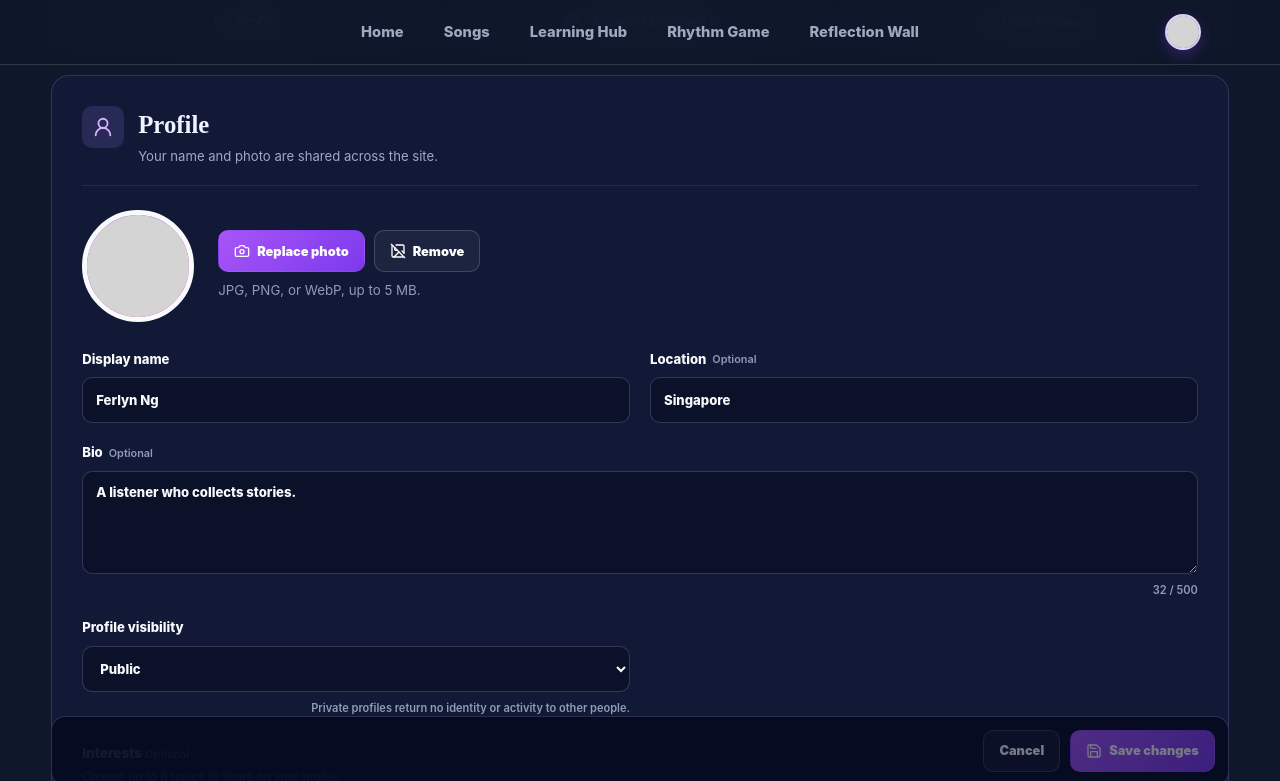
Test case: shared user profile system › saves shared profile, preference, and privacy changes through the owner API
(page scrolled)
Replace the text in the field labelled "Display name" with "Ferlyn Tan" at coordinates (356, 400), box [82,378,630,424]
(page scrolled)
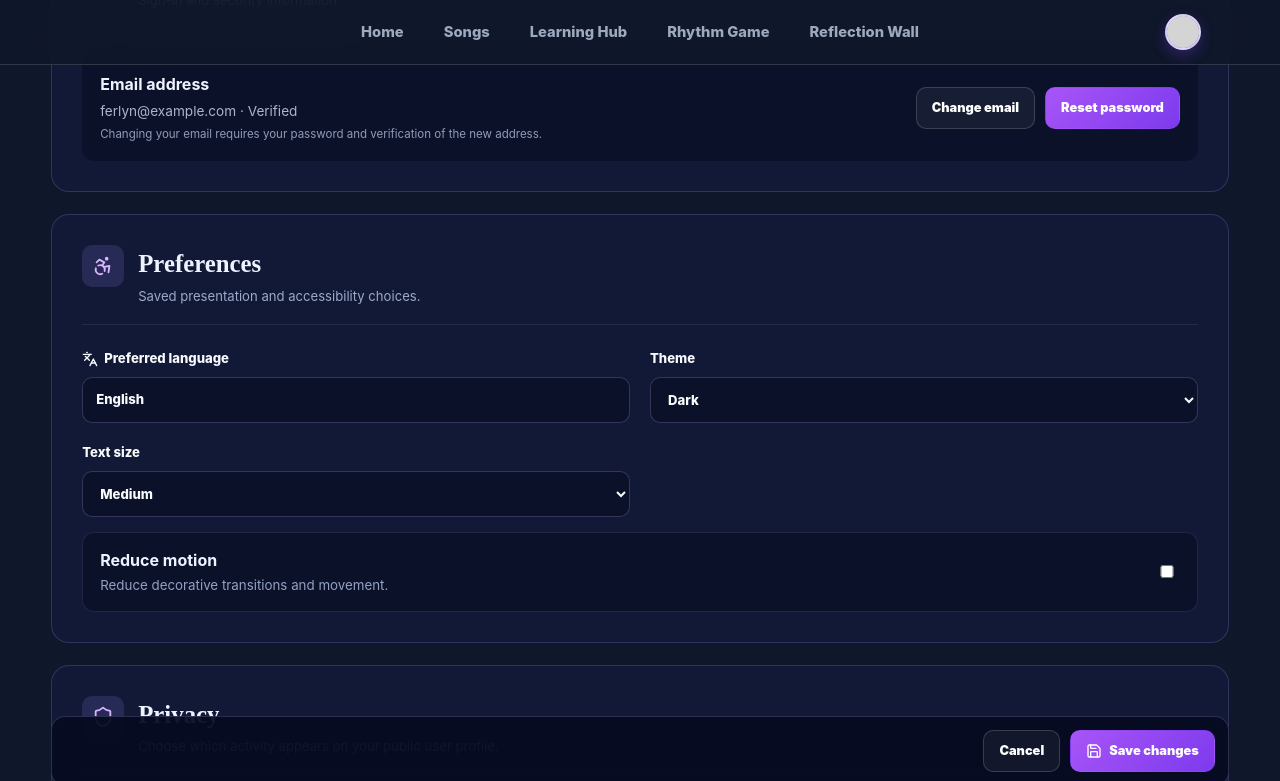
Select "Light" in the dropdown labelled "Theme" at coordinates (924, 400), box [650,377,1198,423]
(page scrolled)
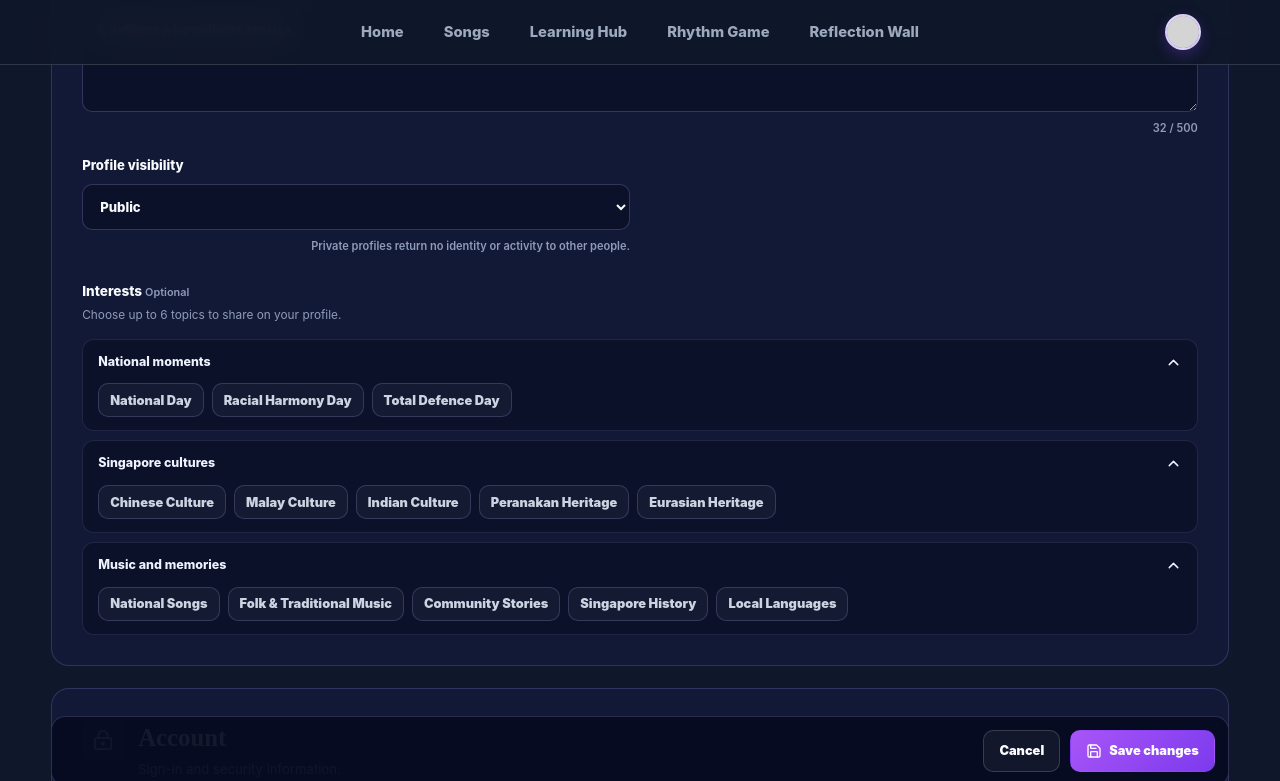
Click the button "National Day" at coordinates (151, 400), box [98,384,204,418]
(page scrolled)
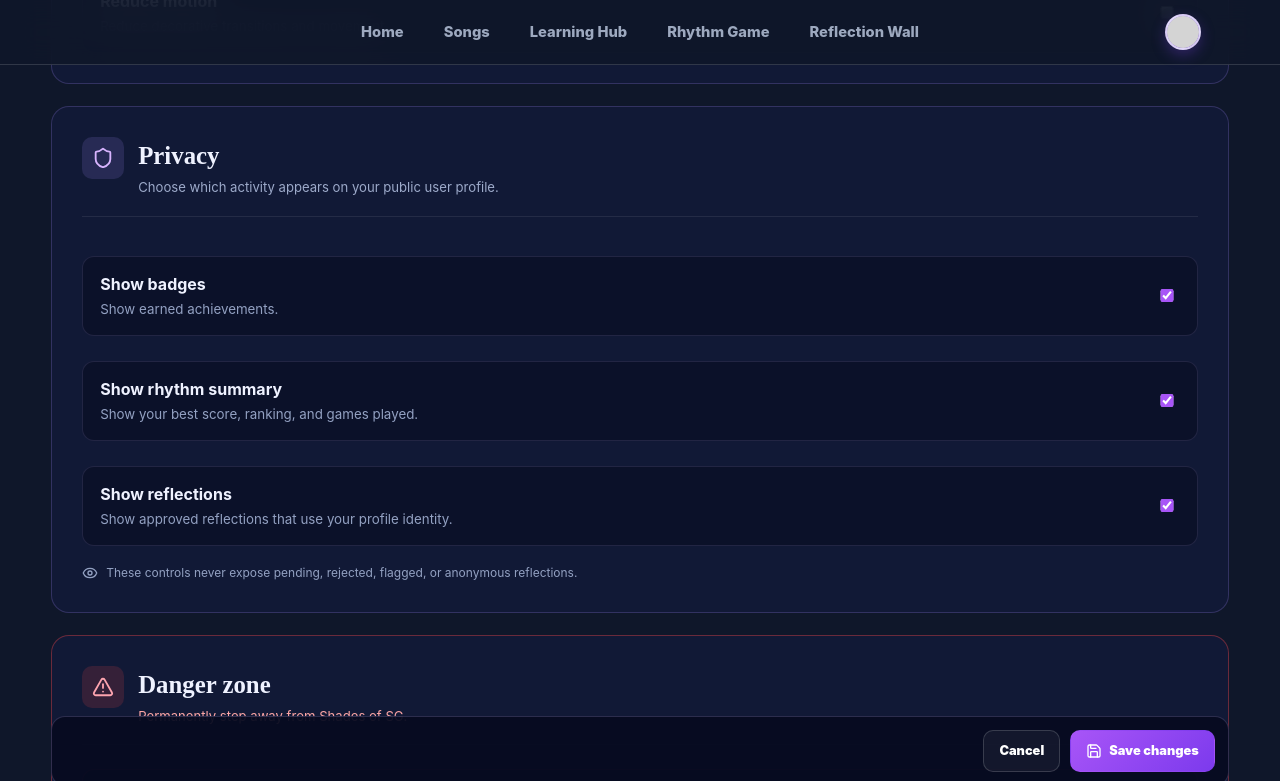
Click the checkbox labelled "Show rhythm summary" at coordinates (1167, 400), box [1157,394,1177,407]
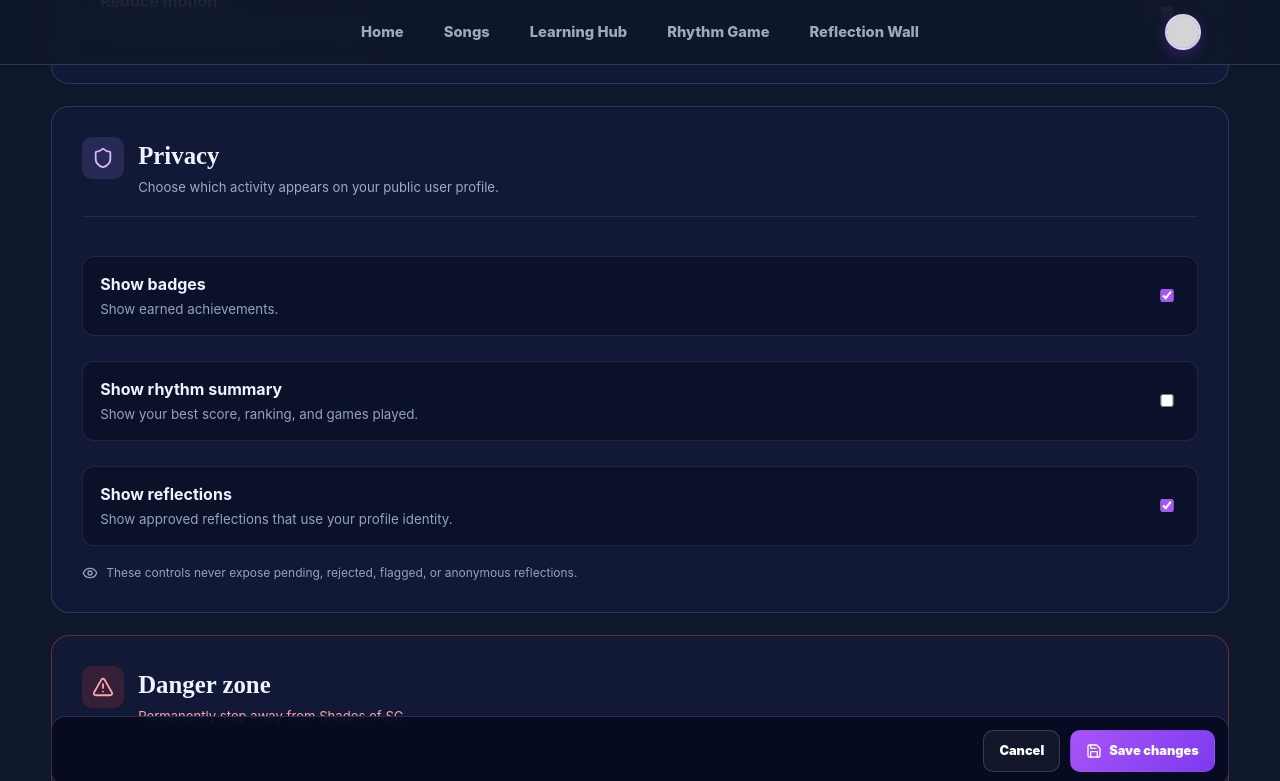
Check: the button "Save changes" is enabled
Click the button "Save changes" at coordinates (1142, 751), box [1070,730,1215,772]
(page scrolled)
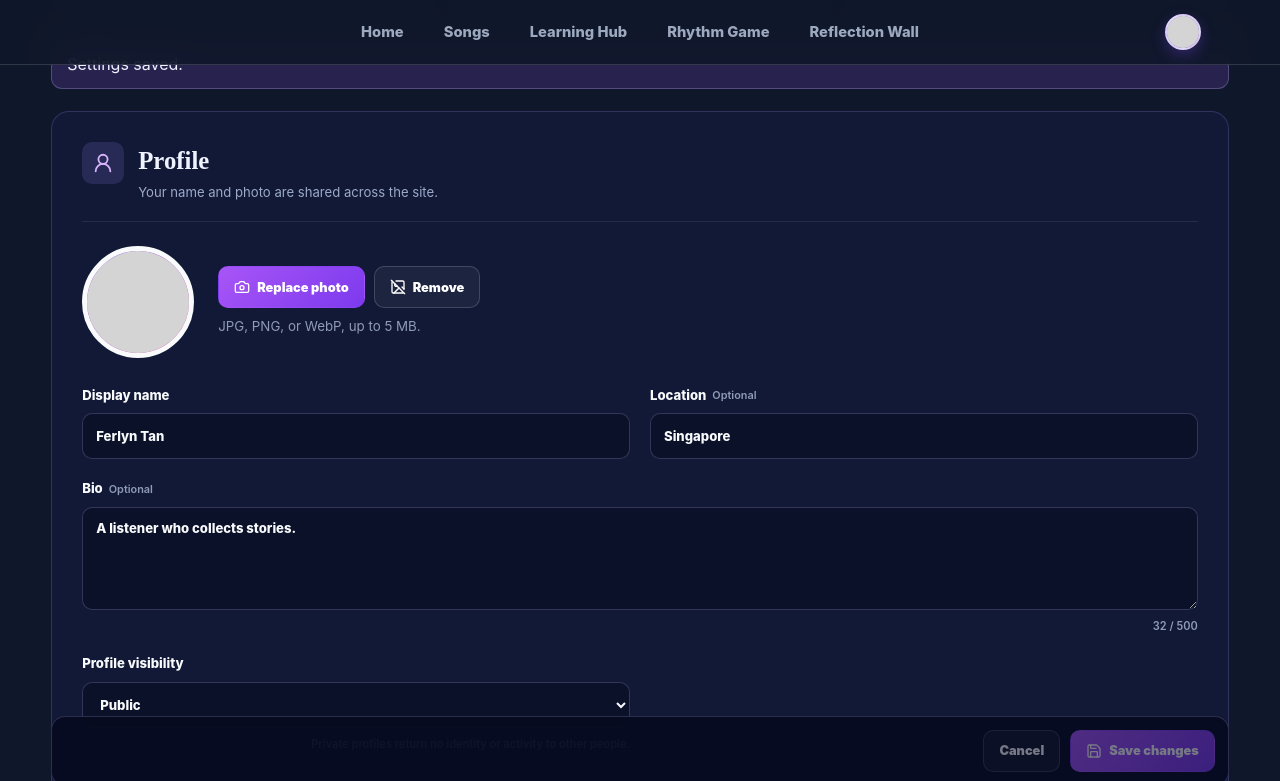
Check: the text "Settings saved." is shown, box [51,39,1229,89]
